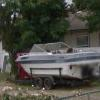Boat: (14, 41, 100, 85)
